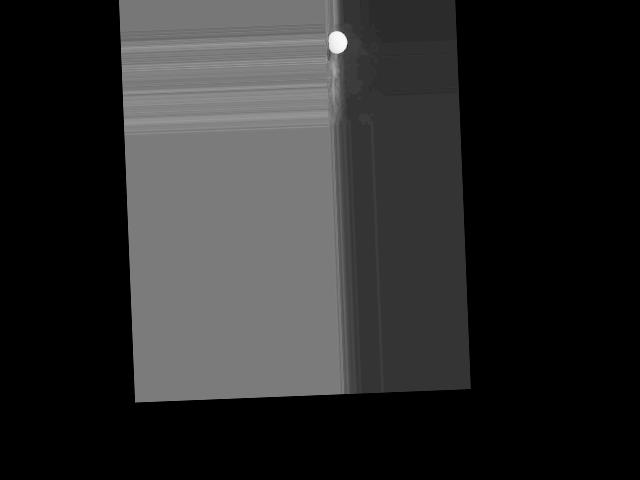egg: (328, 31, 347, 54)
